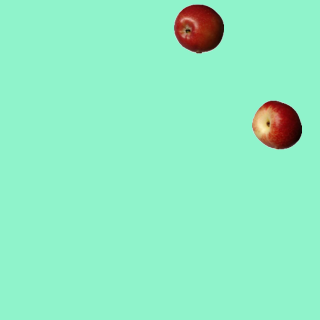Apple Braeburn: (173, 3, 223, 53)
Nectarine: (251, 99, 301, 149)
